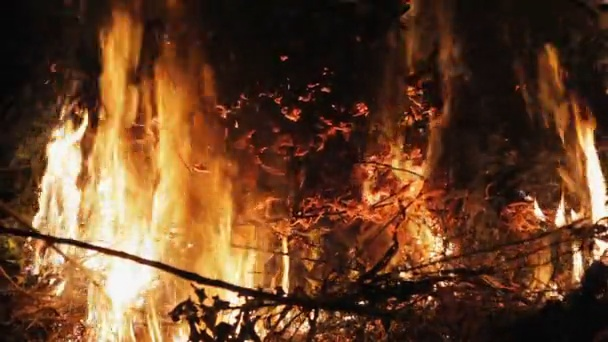fire: (33, 39, 256, 342), (554, 96, 607, 240), (364, 144, 422, 197), (412, 225, 451, 260), (570, 251, 585, 286)
